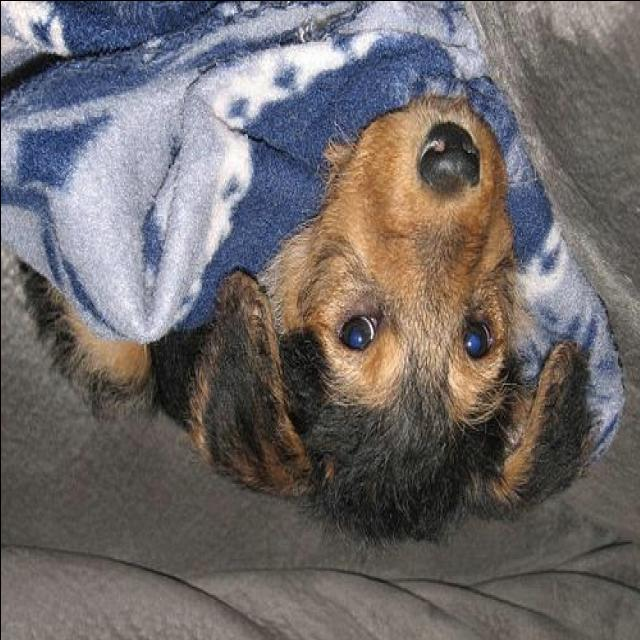airedale: (10, 86, 598, 544)
